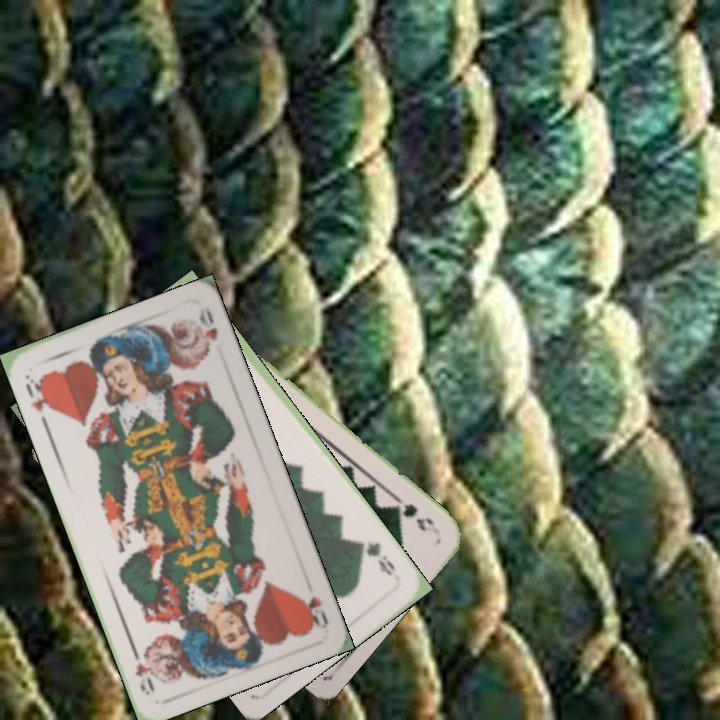G9: (389, 493, 437, 534), (355, 536, 398, 579)
HO: (21, 371, 56, 415), (297, 592, 331, 632)
